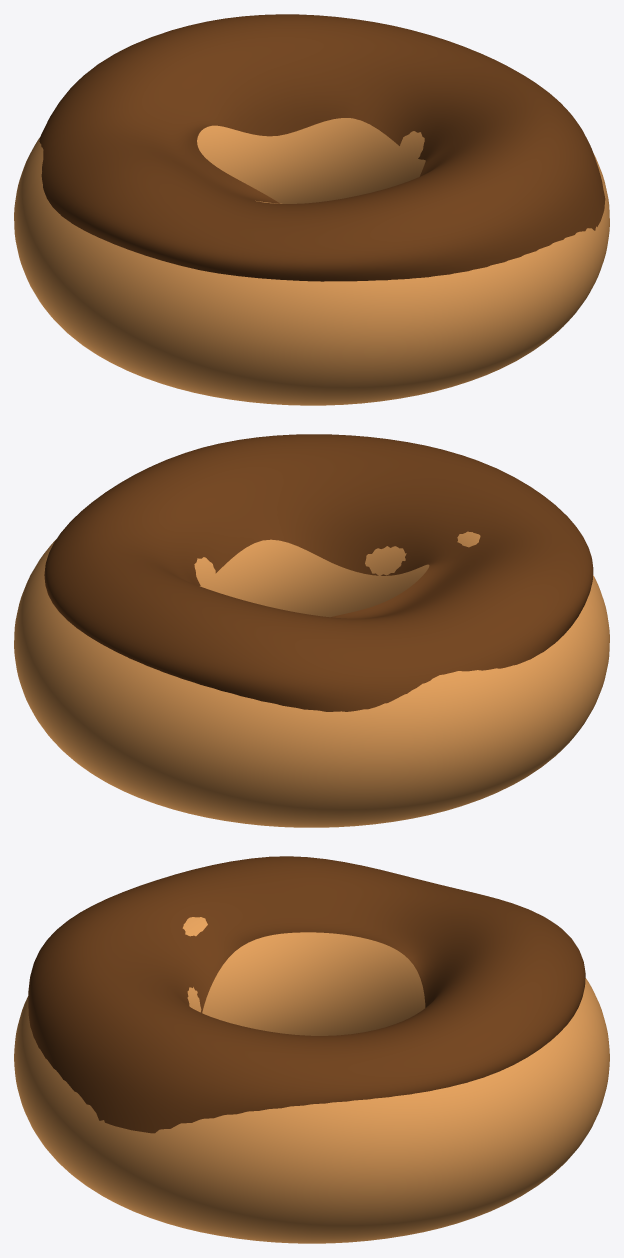
Rendered from donut2.obj.
The picture shows the model from 3 angles, top to bottom: view 1: azimuth 30°, elevation 25°; view 2: azimuth 150°, elevation 25°; view 3: azimuth 270°, elevation 25°; orthographic projection.
Parts seen in each view (by area): view 1: mesh02, mesh01; view 2: mesh02, mesh01; view 3: mesh02, mesh01.
Boxes of the visible parts, x1,y1,x2,y2 form: mesh02: (39, 14, 605, 281); mesh01: (14, 118, 609, 405); mesh02: (44, 434, 593, 711); mesh01: (14, 531, 609, 827); mesh02: (28, 856, 585, 1133); mesh01: (14, 917, 609, 1243).
Size of the model in its own units: 13.77 by 5.28 by 13.76.
